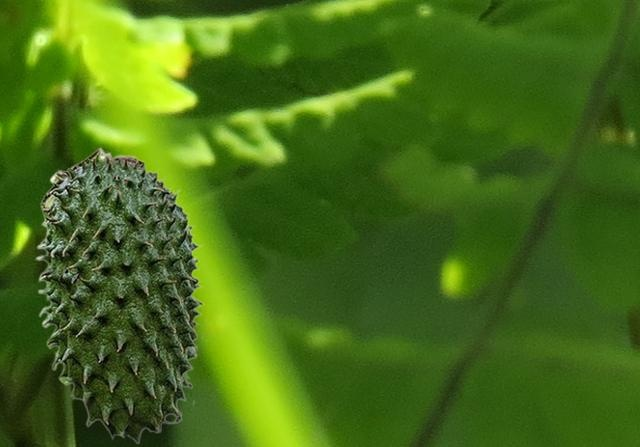guyabano: (35, 146, 204, 443)
